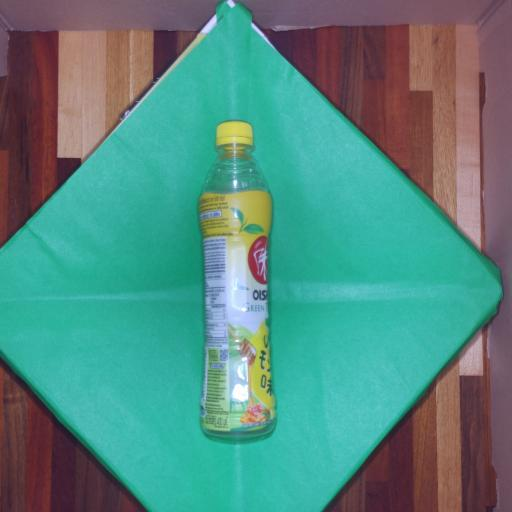bottle: (172, 111, 289, 444)
